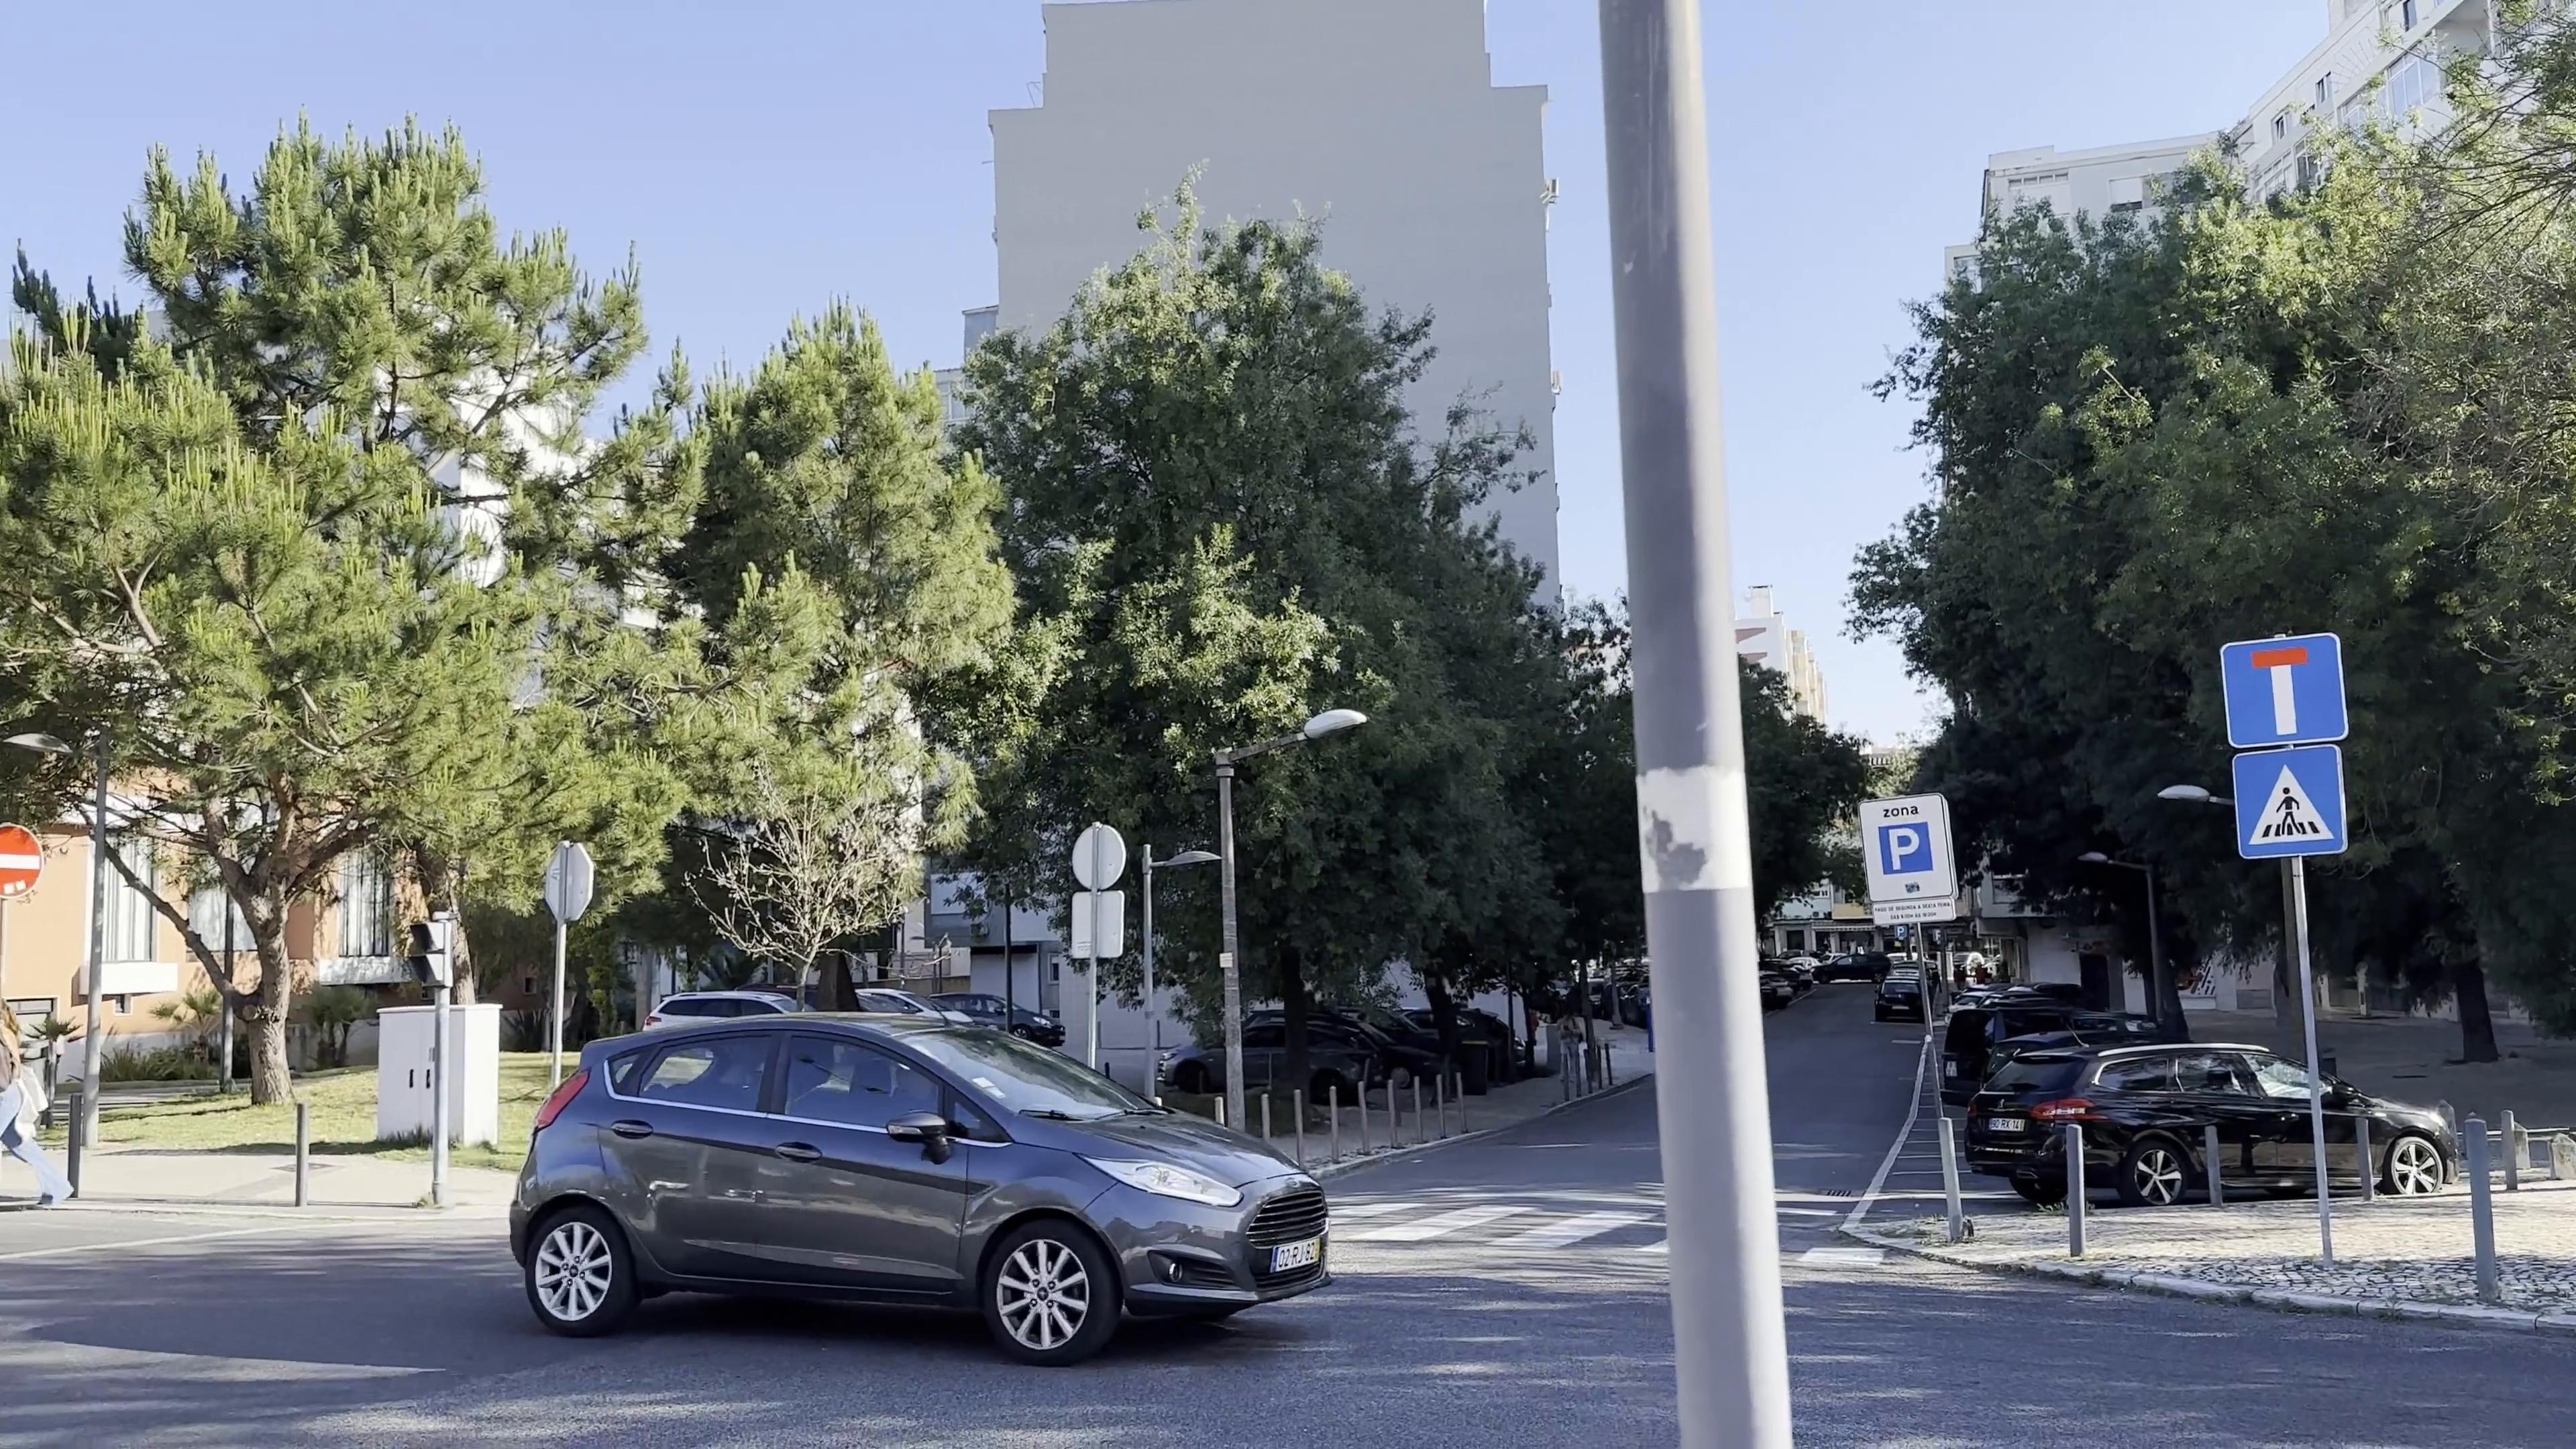via publica sem saida: (2206, 637, 2350, 745)
zona de estacionamento autorizado: (1854, 794, 1959, 899)
